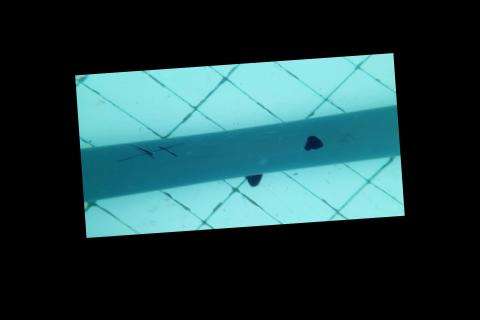kebocoran: (301, 133, 322, 151)
keretakan: (116, 141, 182, 161)
